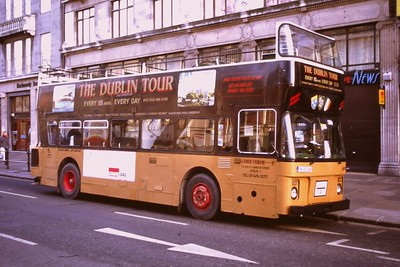bus: (29, 58, 349, 221)
